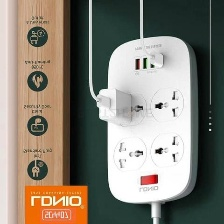three_eye_plug: (101, 34, 200, 205)
